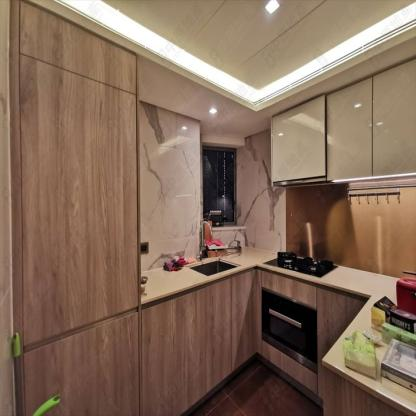Cupboard: (26, 0, 259, 415), (271, 72, 416, 185)
Exhaust Hood: (273, 175, 332, 187)
Faucet: (199, 218, 213, 259)
Oven: (260, 286, 317, 375)
Sink: (189, 259, 240, 276)
Stove: (263, 251, 337, 278)
